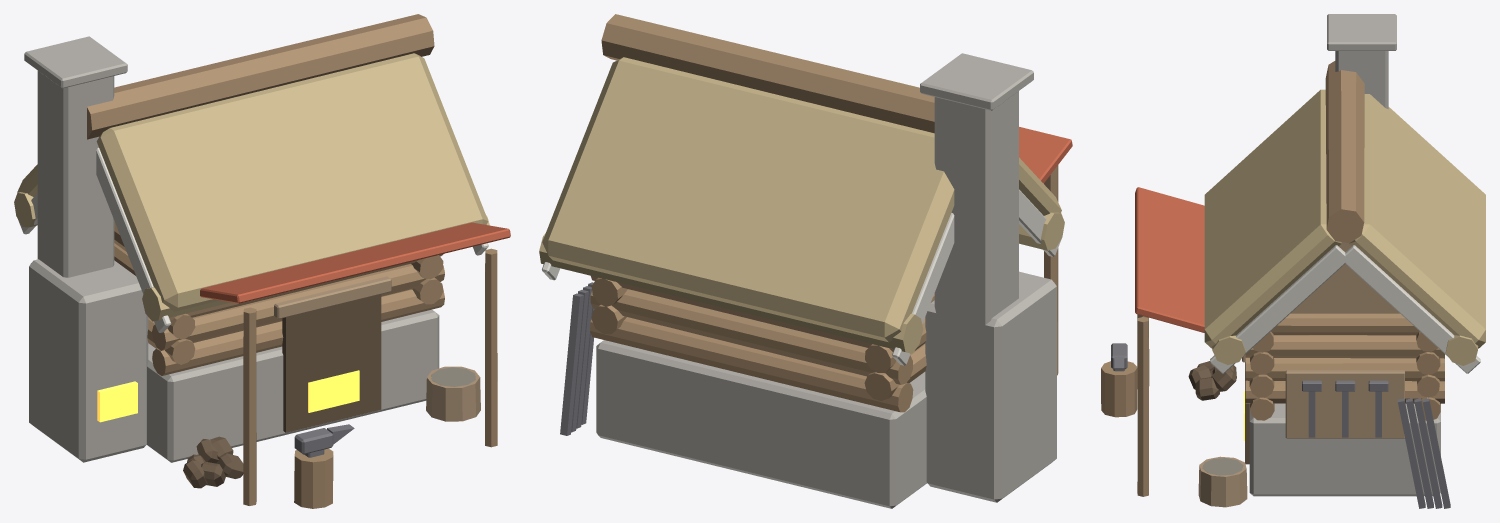
File: bld_kuznica.glb
3 renders of one model, left to right at view 1: azimuth 30°, elevation 25°; view 2: azimuth 150°, elevation 25°; view 3: azimuth 270°, elevation 25°, orthographic. The views are drawn at different scales.
Visible parts, largest first — view 1: kuznica; view 2: kuznica; view 3: kuznica.
Part boxes in pixels (left/top/right/bottom): kuznica: left=14, top=14, right=510, bottom=508; kuznica: left=539, top=14, right=1072, bottom=508; kuznica: left=1101, top=14, right=1485, bottom=508.
Bounding box in the file's own units: 1.18 × 1.13 × 1.16.
